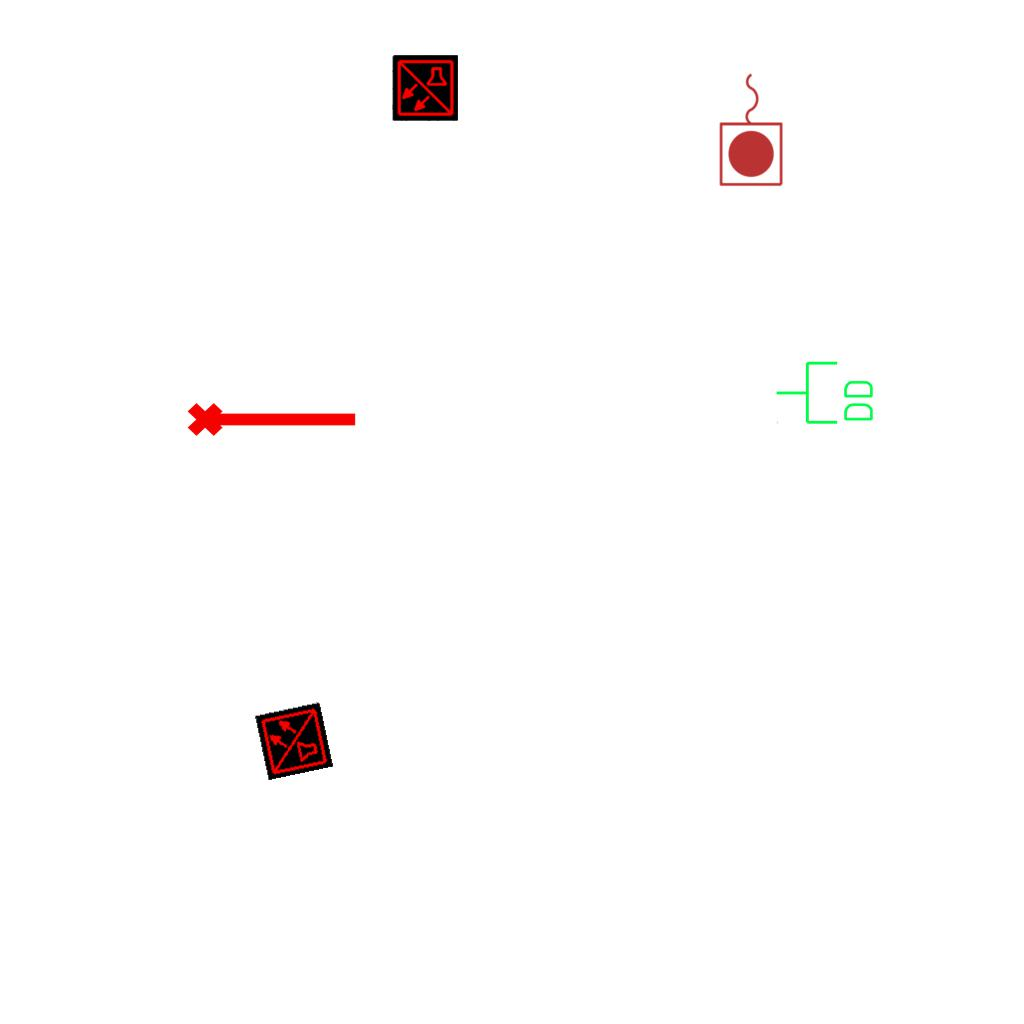ASR_Ansaugoeffnung: (185, 394, 361, 440)
Datenanschluss_zweifach: (774, 359, 877, 428)
OKW_Multisensormelder_(Kombination_optischer_Rauch-Kahlenmonoxid_Waerme-Melder): (254, 701, 334, 781), (392, 55, 458, 121)
Zugtaster: (716, 68, 788, 190)
